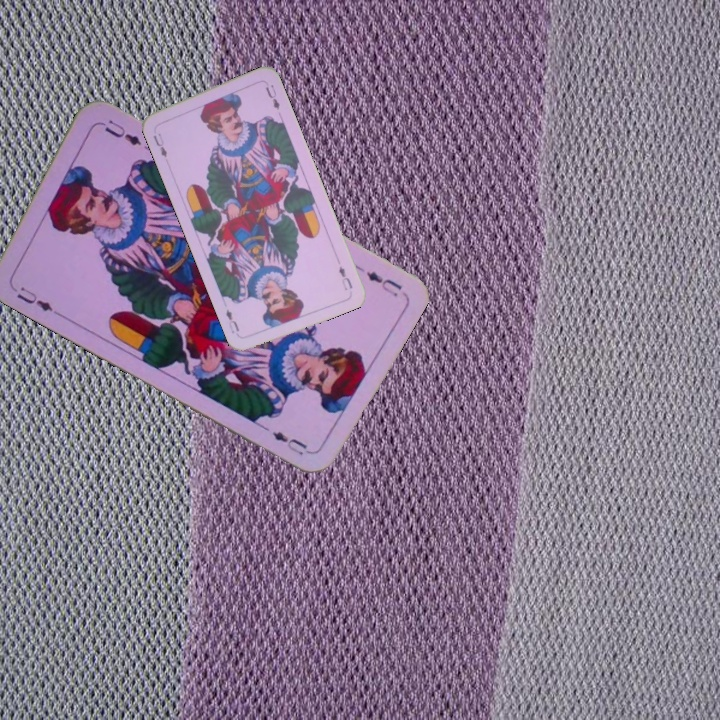EU: (6, 279, 56, 314), (362, 267, 405, 299), (149, 129, 170, 160), (335, 262, 355, 293)
